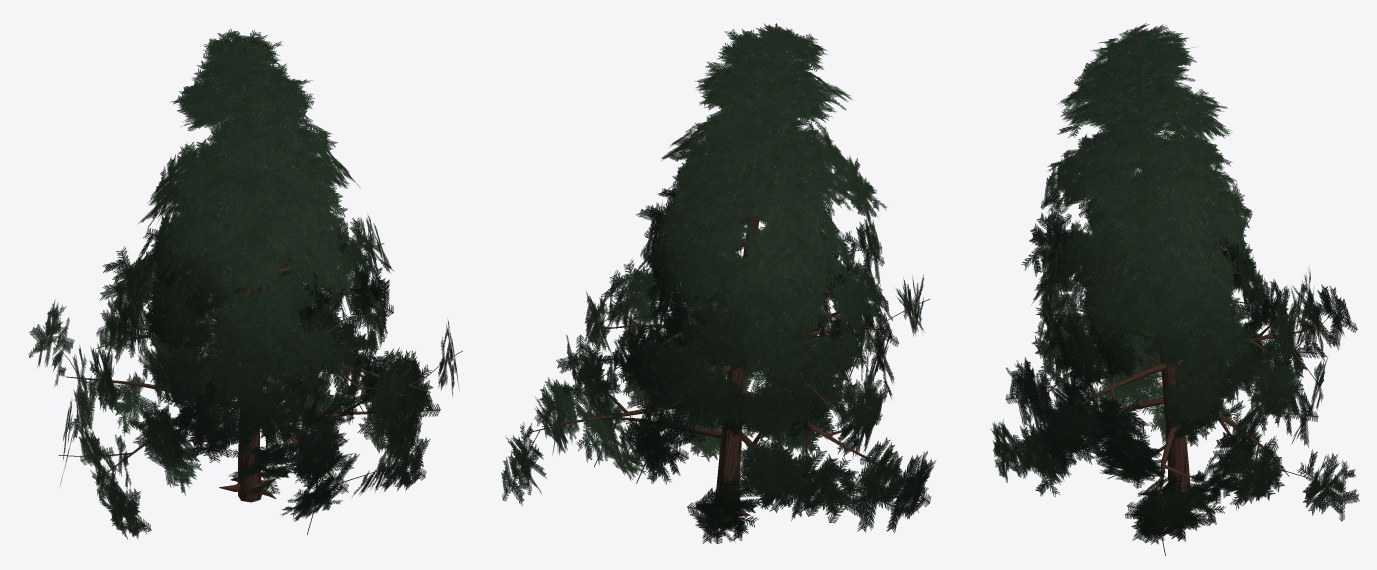
The model's file is DarkPine_1_LOD1.gltf.
3 renders of one model, left to right at view 1: azimuth 30°, elevation 25°; view 2: azimuth 150°, elevation 25°; view 3: azimuth 270°, elevation 25°, orthographic. The views are drawn at different scales.
Parts seen in each view (by area): view 1: DarkPine_1_LOD1; view 2: DarkPine_1_LOD1; view 3: DarkPine_1_LOD1.
Boxes of the visible parts, x1,y1,x2,y2 form: DarkPine_1_LOD1: (28, 29, 462, 539); DarkPine_1_LOD1: (501, 23, 936, 543); DarkPine_1_LOD1: (990, 23, 1359, 555).
Bounding box in the file's own units: 13.36 × 16.58 × 12.41.
2 materials, 2 textured.
